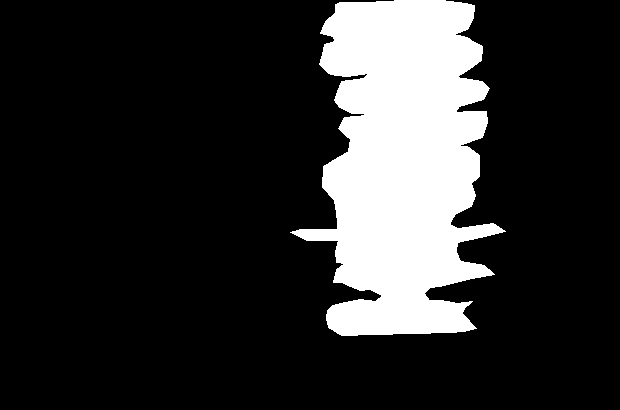type4: (289, 1, 508, 344)
